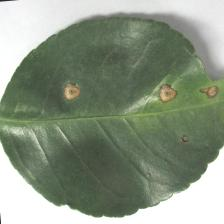canker: (52, 52, 224, 174)
